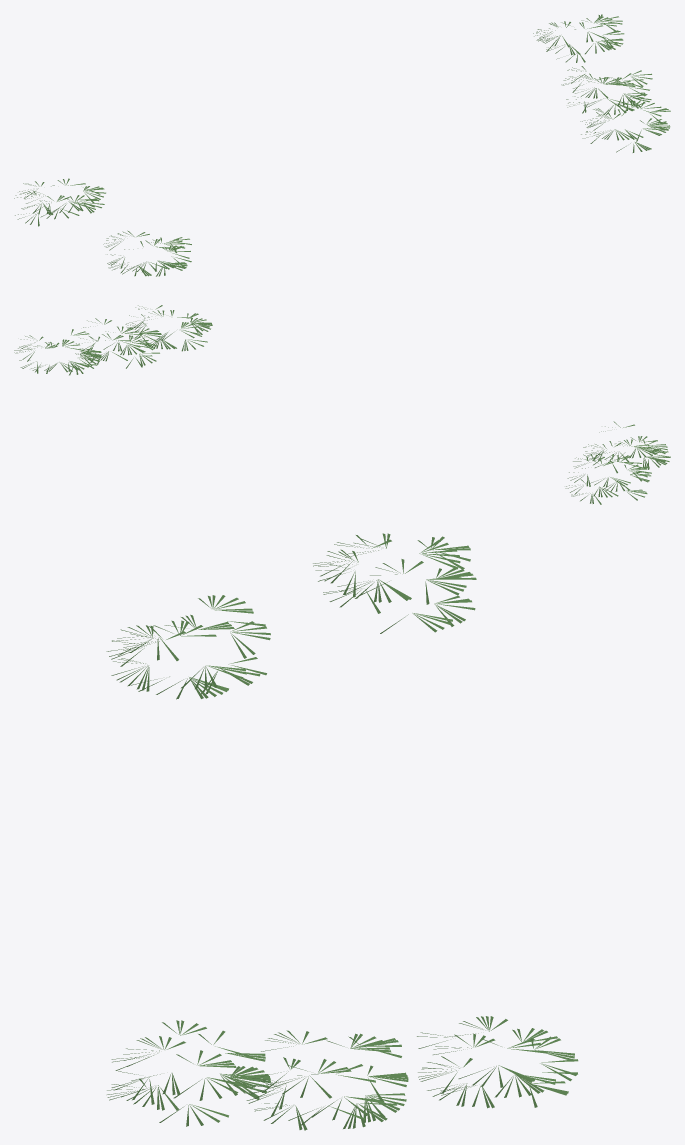
Rendered from teaching3-vegetation-14-near.glb.
The picture shows the model from 3 angles, top to bottom: view 1: azimuth 30°, elevation 25°; view 2: azimuth 150°, elevation 25°; view 3: azimuth 270°, elevation 25°; orthographic projection. The views are drawn at different scales.
Parts seen in each view (by area): view 1: vegetation palm fan.001; view 2: vegetation palm fan.001; view 3: vegetation palm fan.001.
Boxes of the visible parts, left/top/right/bottom form: vegetation palm fan.001: left=14, top=14, right=670, bottom=276; vegetation palm fan.001: left=14, top=305, right=670, bottom=504; vegetation palm fan.001: left=106, top=533, right=578, bottom=1130.
Size of the model in its own units: 40.45 by 3.42 by 13.73.
